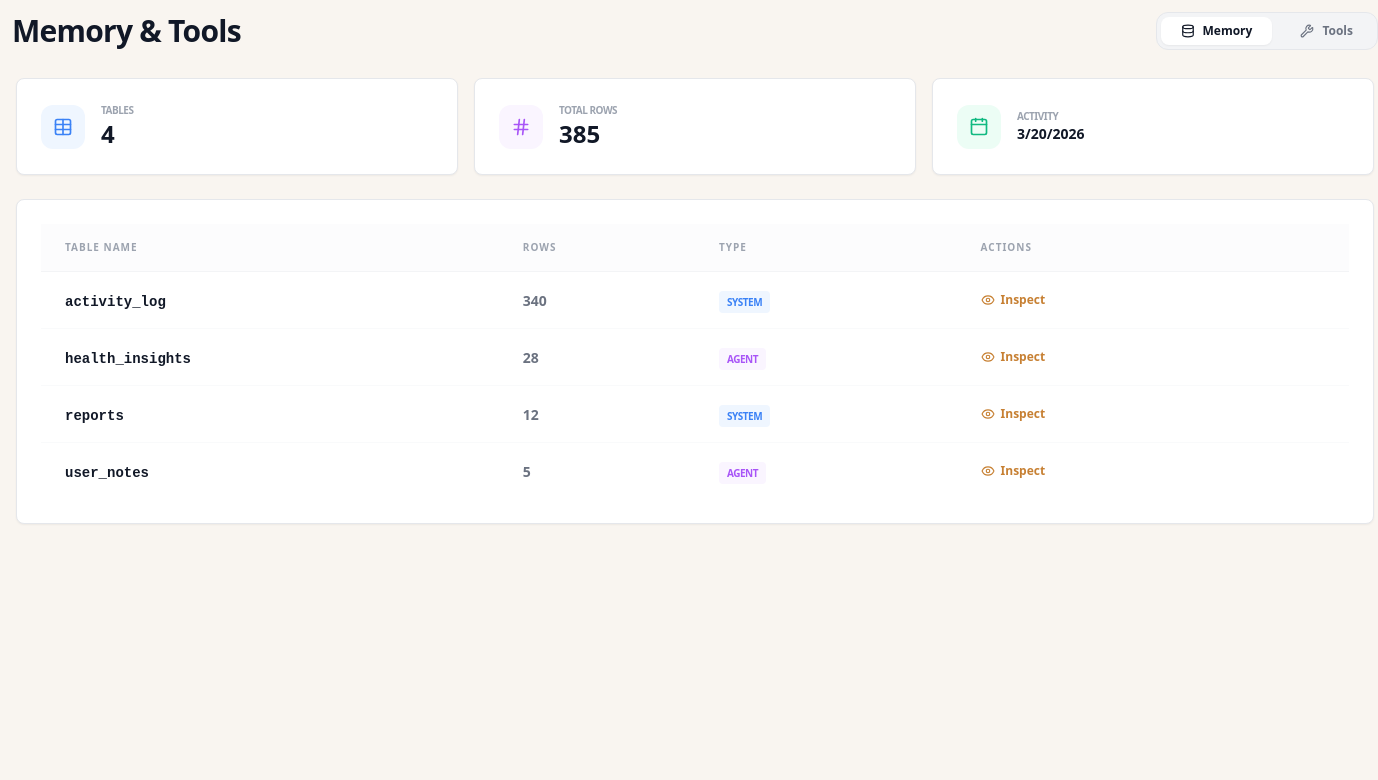
Scenario: KnowledgeBase (MemoryAndTools) › expands a table when Inspect button is clicked
Check: the text "reports" is shown, box [65, 408, 124, 424]
// Find all Inspect buttons and click the first one
Click the button "Inspect" in the row of "activity_log" at (1013, 300), box [981, 292, 1045, 308]
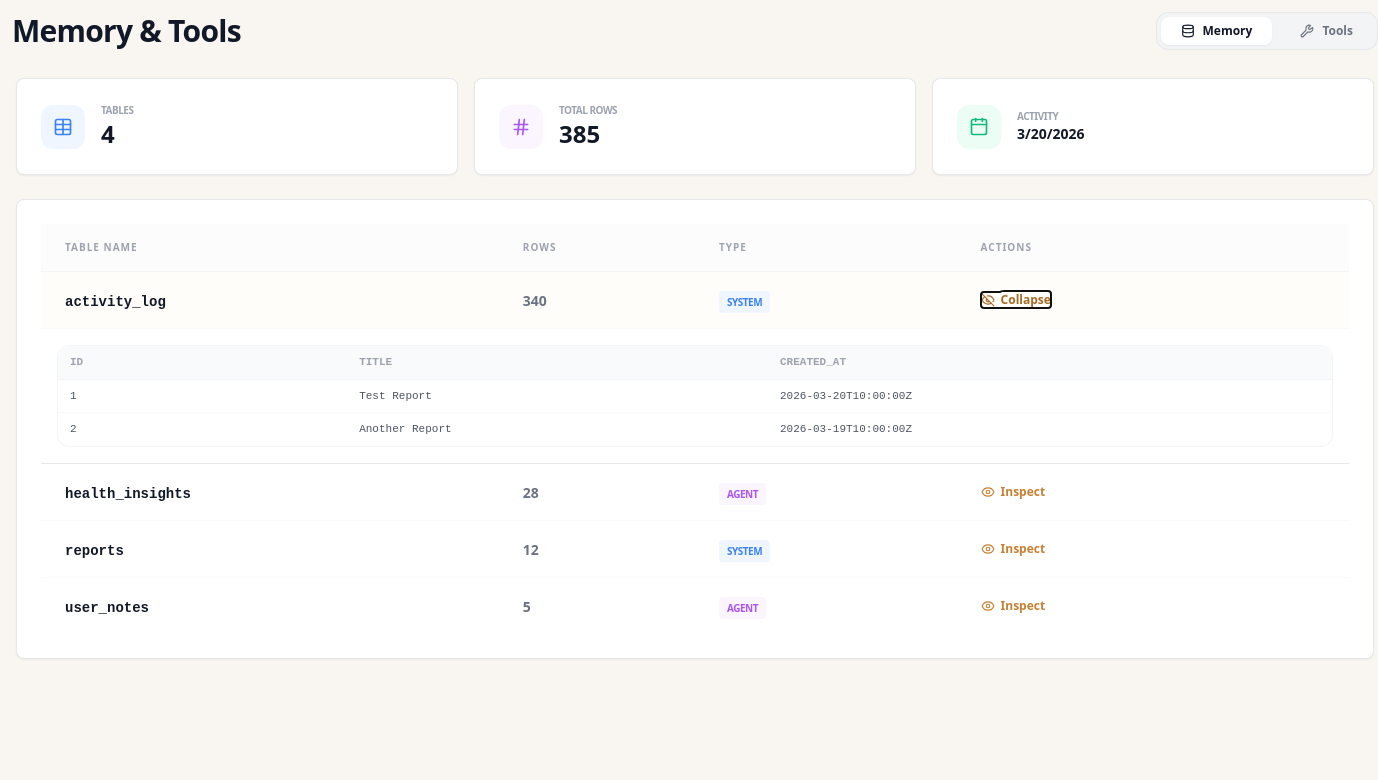
Check: the text "Test Report" is shown, box [347, 379, 768, 412]
Check: the text "Another Report" is shown, box [347, 412, 768, 446]
